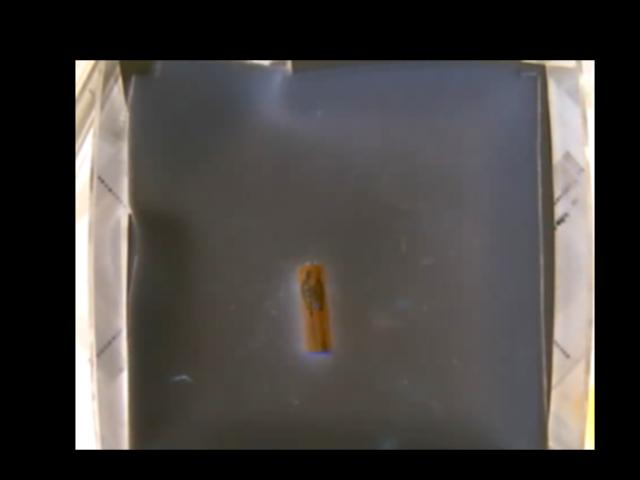Battery: (296, 261, 331, 358)
